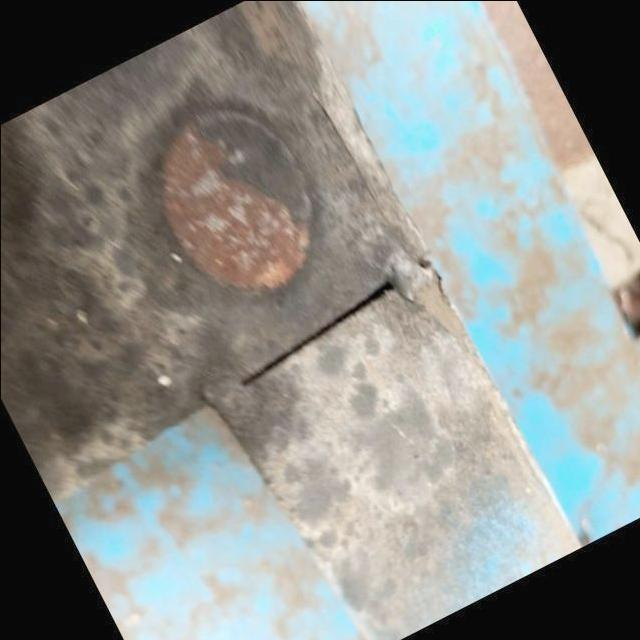defect: (235, 273, 403, 392)
